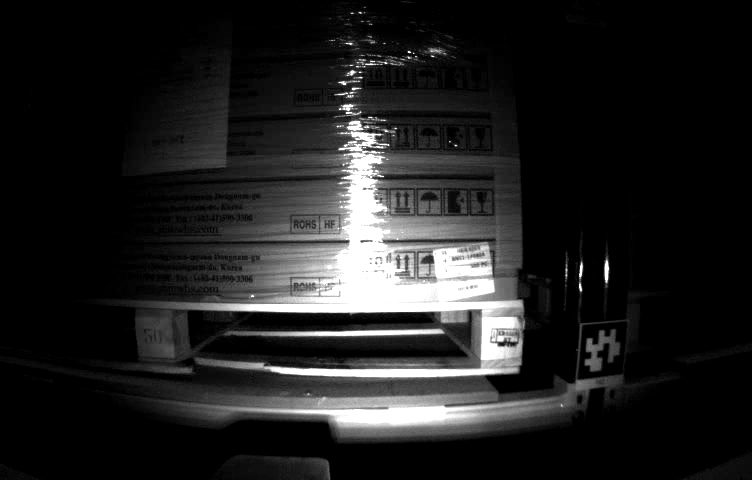True Barcode: (431, 243, 500, 300)
